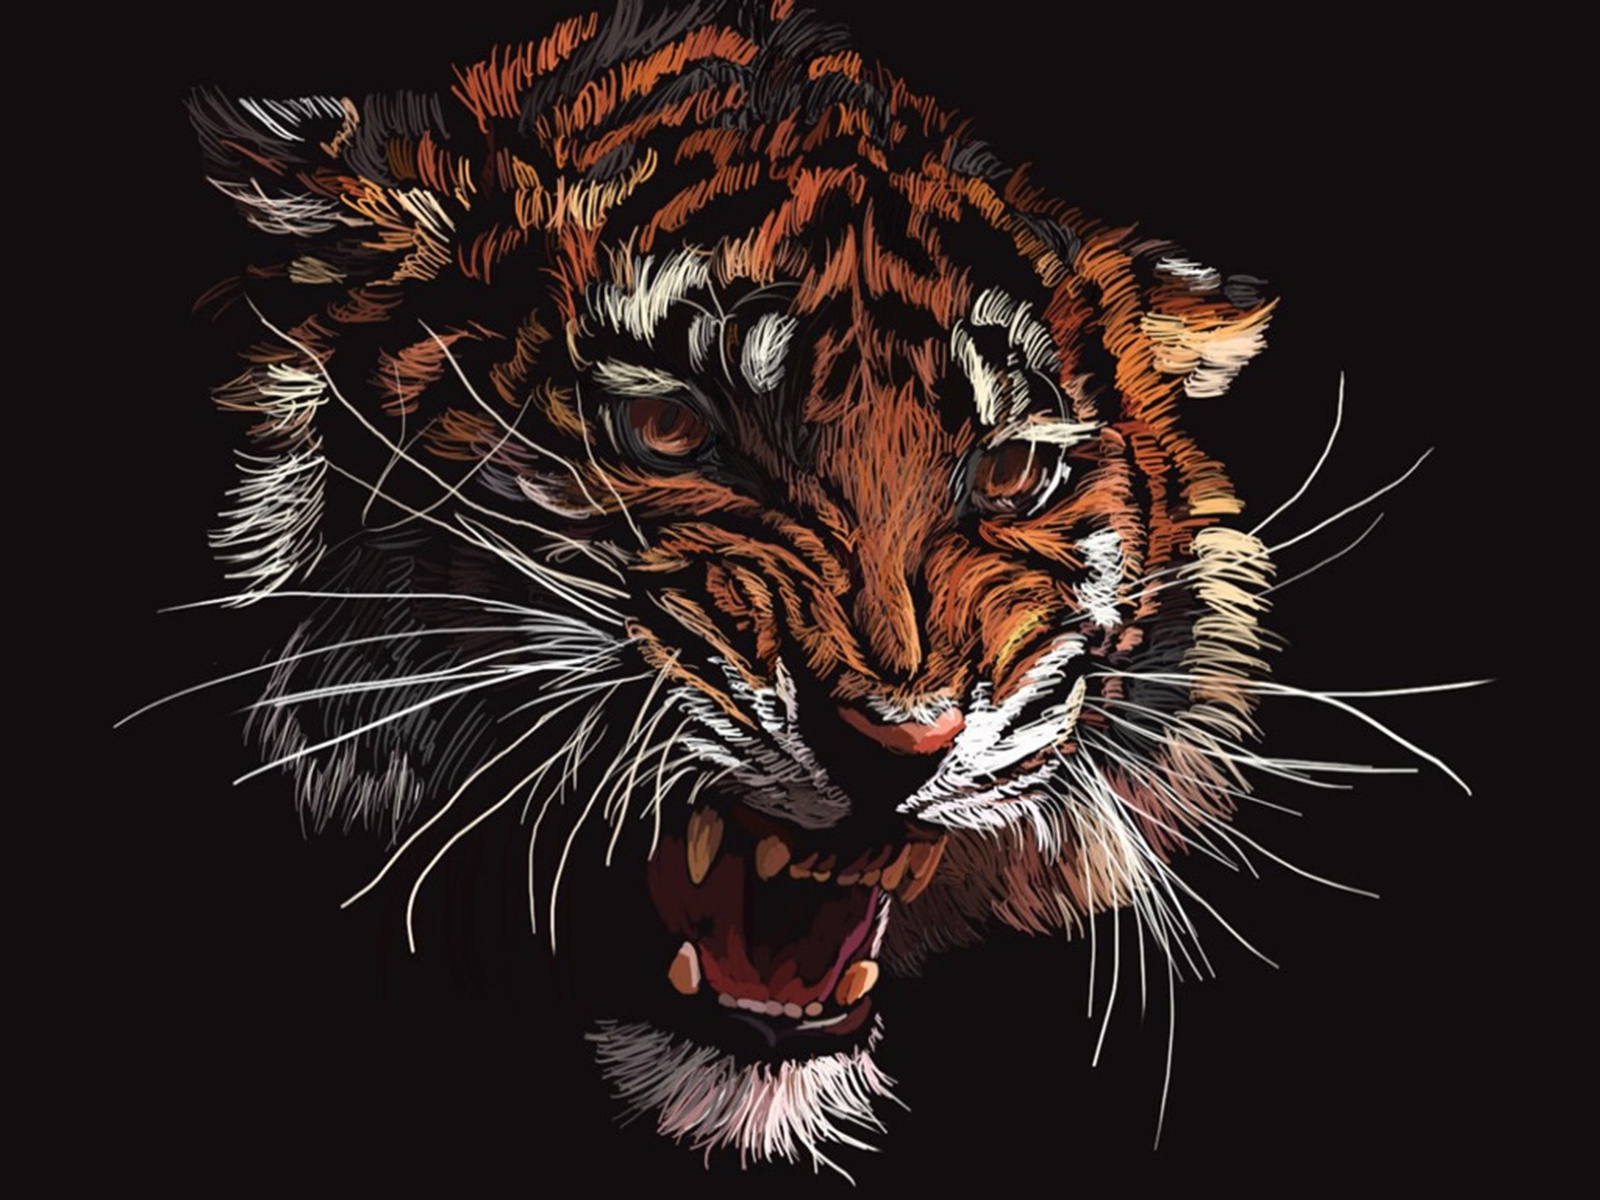Tigrew: (150, 55, 1376, 1161)
